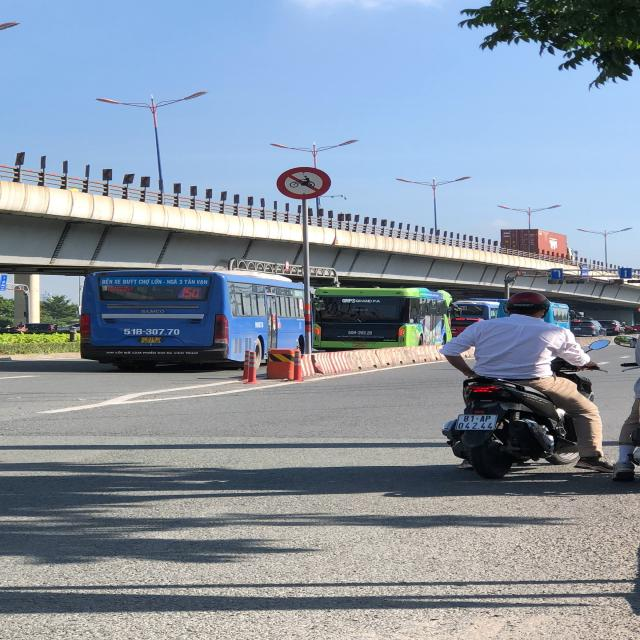Bien bao cam xe may: (272, 163, 333, 201)
